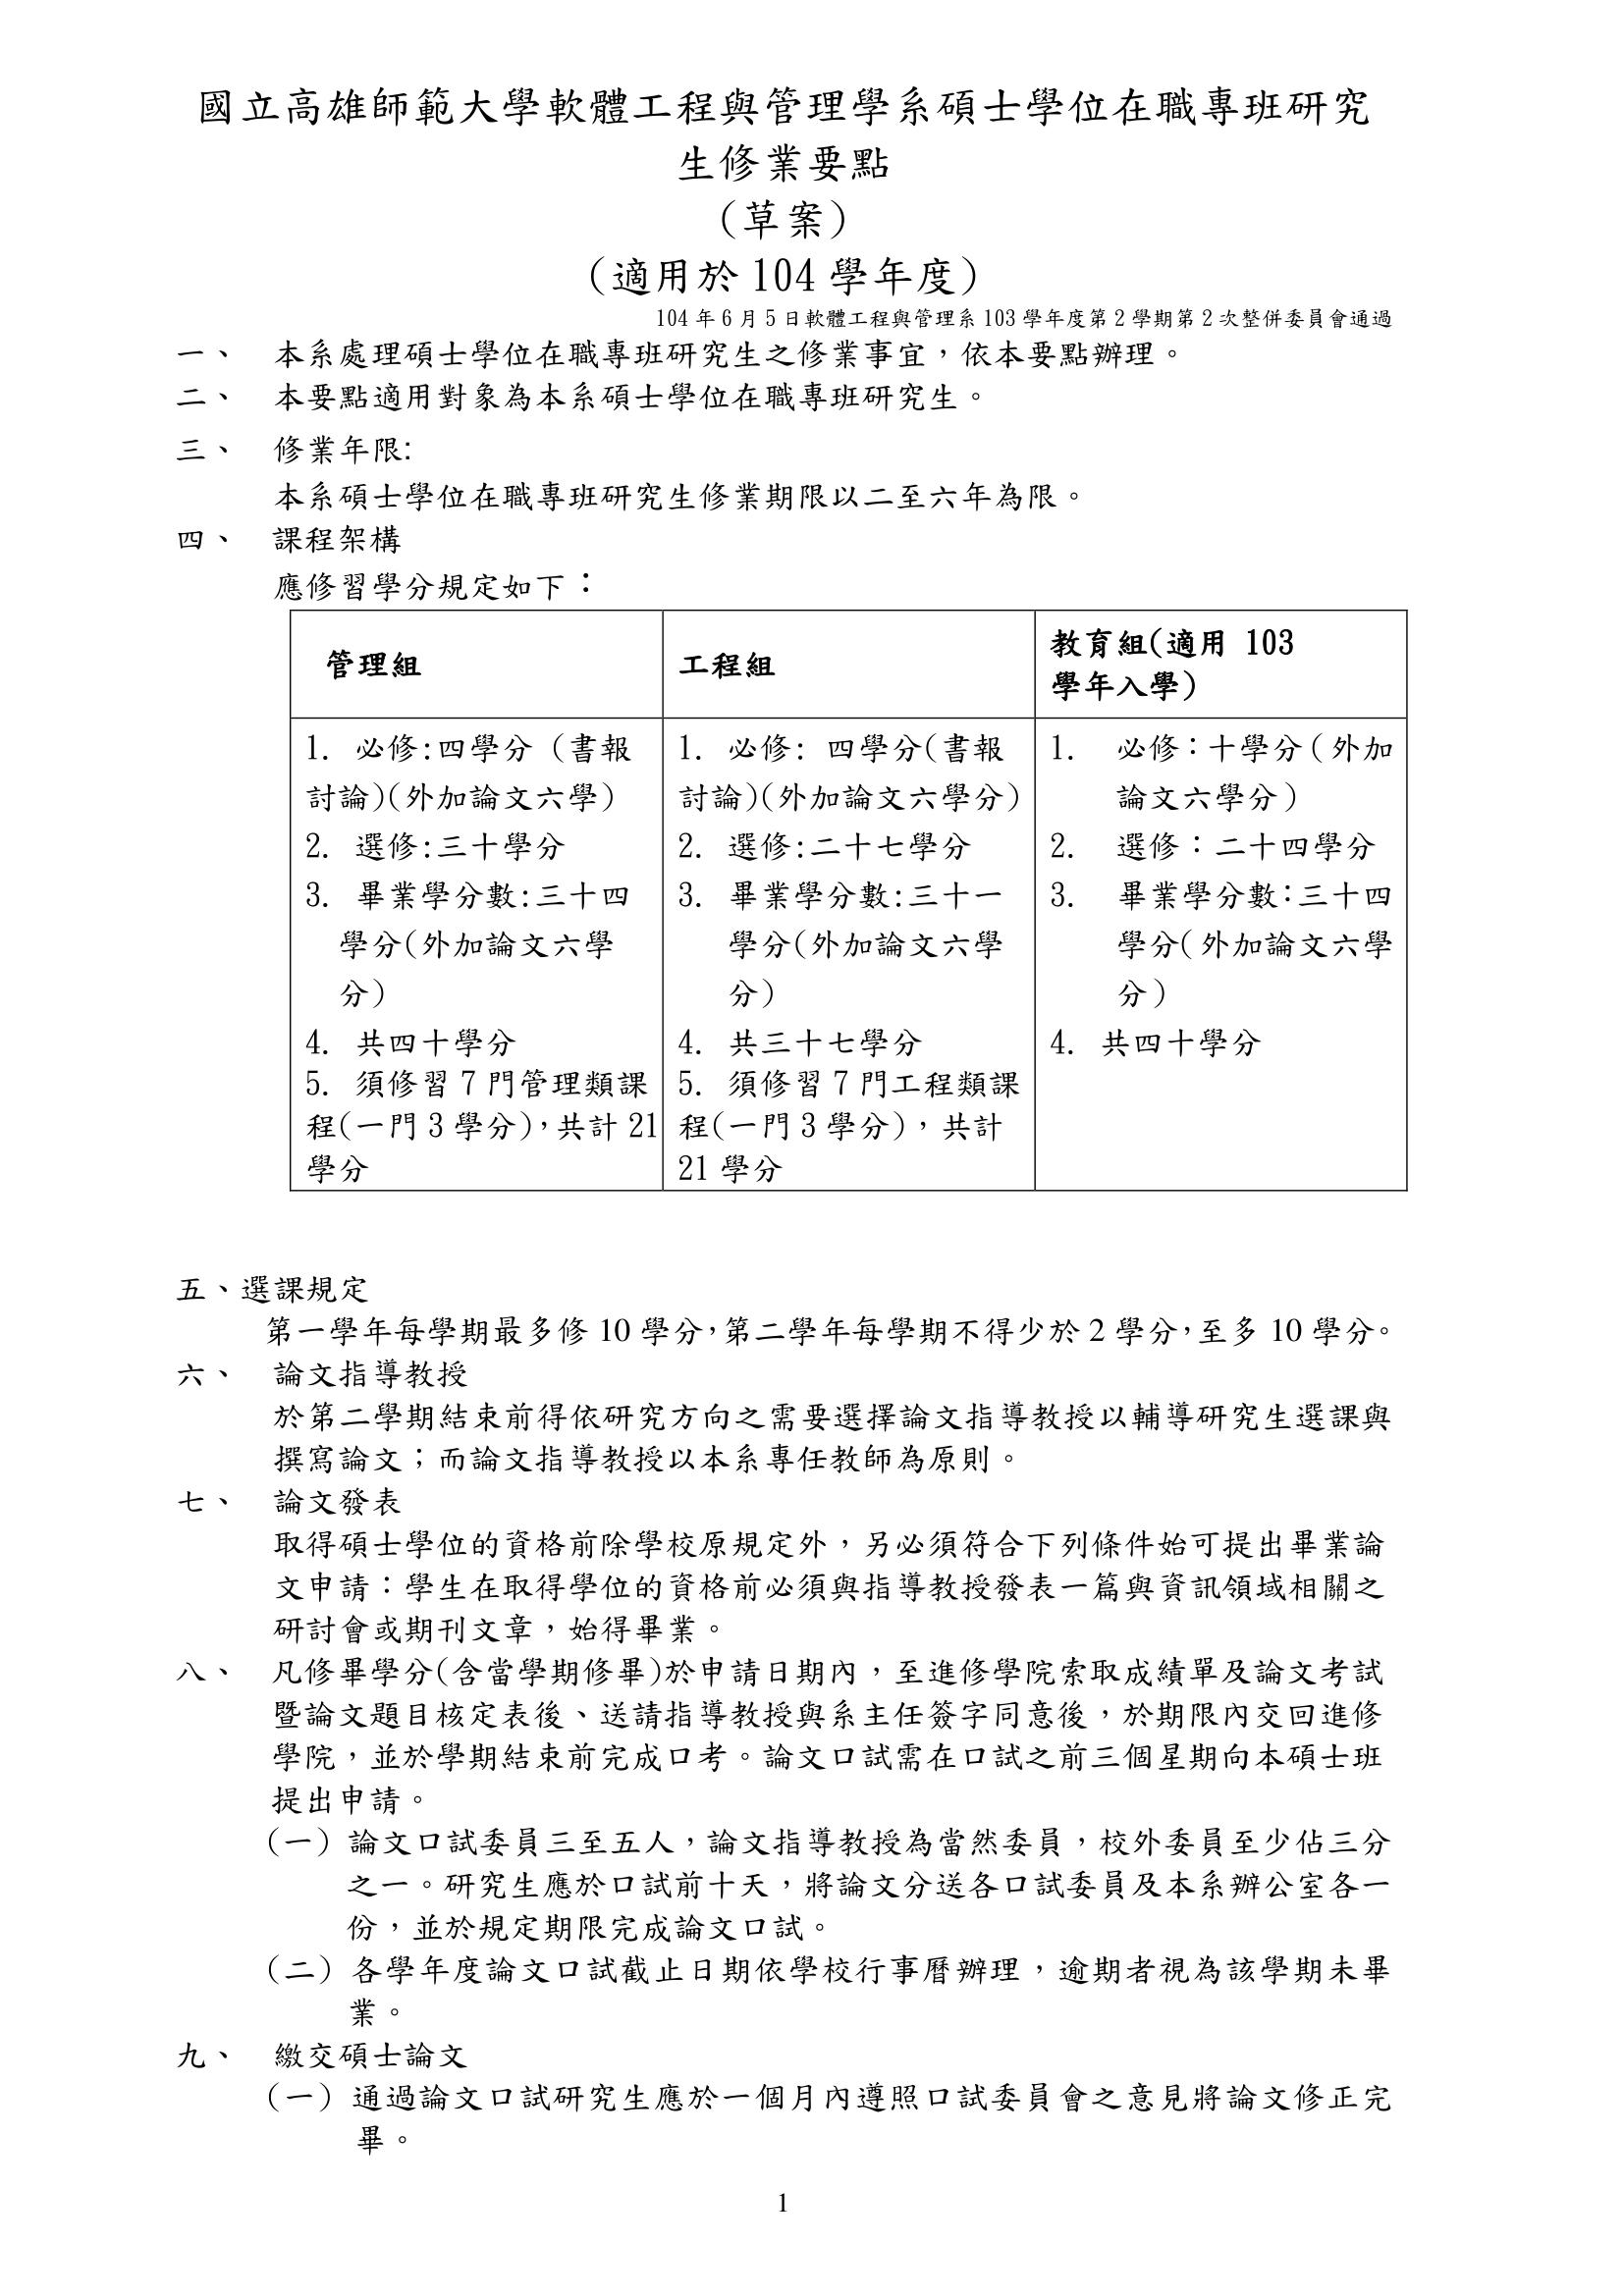table: (279, 604, 1438, 1214)
text: (162, 1651, 1424, 2038), (172, 70, 1432, 299), (162, 1493, 1397, 1650), (163, 1358, 1425, 1488), (163, 2045, 1427, 2170), (163, 1270, 1399, 1354), (170, 432, 1086, 520), (160, 336, 1181, 376), (169, 531, 617, 603), (155, 386, 997, 423), (645, 299, 1410, 336)
